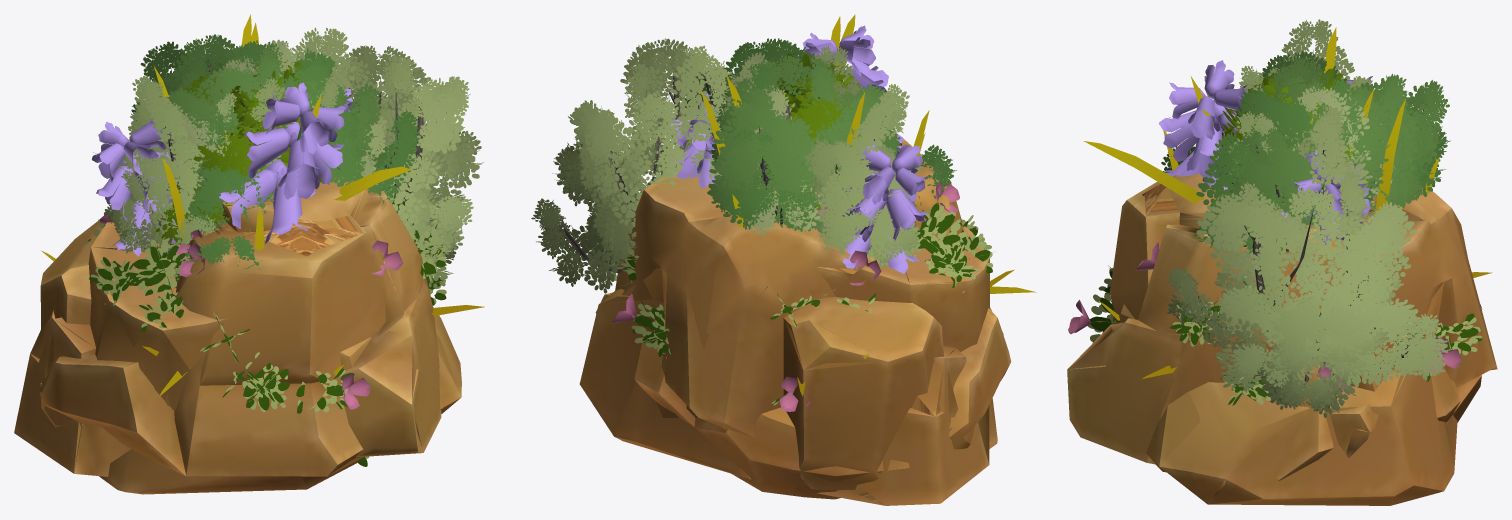
File: bay.glb
3 views of the same model, side by side, from view 1: azimuth 30°, elevation 25°; view 2: azimuth 150°, elevation 25°; view 3: azimuth 270°, elevation 25° (orthographic). The views are drawn at different scales.
Parts seen in each view (by area): view 1: Rock_Medium_1 (×2), Rock_Medium_2 (×2), Rock_Medium_3 (×2), TwistedTree_1 (×2), Flower_4_Group (×2), TwistedTree_2 (×2), TwistedTree_5 (×2), TwistedTree_3 (×2), Bush_Common_Flowers (×2), Bush_Common (×2), Grass_Wispy_Tall (×2), CommonTree_4 (×2) (+2 smaller); view 2: Rock_Medium_3 (×2), Rock_Medium_2 (×2), TwistedTree_1 (×2), TwistedTree_5 (×2), Rock_Medium_1 (×2), TwistedTree_2 (×2), Flower_4_Group (×2), TwistedTree_3 (×2), Bush_Common_Flowers (×2), Bush_Common, TwistedTree_4 (×2), Grass_Wispy_Tall (×2) (+2 smaller); view 3: TwistedTree_1 (×2), Rock_Medium_3 (×2), Rock_Medium_2 (×2), TwistedTree_5 (×2), Rock_Medium_1 (×2), TwistedTree_3 (×2), Flower_4_Group (×2), Grass_Wispy_Tall (×2), TwistedTree_2 (×2), Bush_Common_Flowers, TwistedTree_4, Bush_Common (+2 smaller).
Part boxes in pixels (x1,y1,x2,y2): Rock_Medium_1 (×2): (39,170,442,476); Rock_Medium_2 (×2): (14,222,461,494); Rock_Medium_3 (×2): (40,184,441,457); TwistedTree_1 (×2): (292,27,483,288); Flower_4_Group (×2): (92,82,359,256); TwistedTree_2 (×2): (104,75,339,280); TwistedTree_5 (×2): (140,34,384,215); TwistedTree_3 (×2): (131,40,422,269); Bush_Common_Flowers (×2): (88,200,446,466); Bush_Common (×2): (85,193,450,458); Grass_Wispy_Tall (×2): (41,14,484,396); CommonTree_4 (×2): (184,60,320,182); Rock_Medium_3 (×2): (596,167,975,490); Rock_Medium_2 (×2): (579,226,997,505); TwistedTree_1 (×2): (531,38,795,293); TwistedTree_5 (×2): (685,50,893,232); Rock_Medium_1 (×2): (633,139,1011,499); TwistedTree_2 (×2): (760,44,934,268); Flower_4_Group (×2): (669,25,928,273); TwistedTree_3 (×2): (685,38,956,231); Bush_Common_Flowers (×2): (612,182,992,411); Bush_Common: (616,205,993,405); TwistedTree_4 (×2): (722,53,884,237); Grass_Wispy_Tall (×2): (701,15,1036,396); TwistedTree_1 (×2): (1166,107,1448,417); Rock_Medium_3 (×2): (1067,188,1497,464); Rock_Medium_2 (×2): (1119,304,1457,505); TwistedTree_5 (×2): (1230,51,1449,228); Rock_Medium_1 (×2): (1102,173,1481,480); TwistedTree_3 (×2): (1161,69,1450,254); Flower_4_Group (×2): (1159,60,1372,244); Grass_Wispy_Tall (×2): (1083,27,1492,378); TwistedTree_2 (×2): (1228,19,1372,178); Bush_Common_Flowers: (1068,242,1482,405); TwistedTree_4: (1248,86,1438,209); Bush_Common: (1087,265,1481,404).
Bounding box in the file's own units: 1.18 × 1.11 × 1.
Materials: 15 (15 with a texture image).
